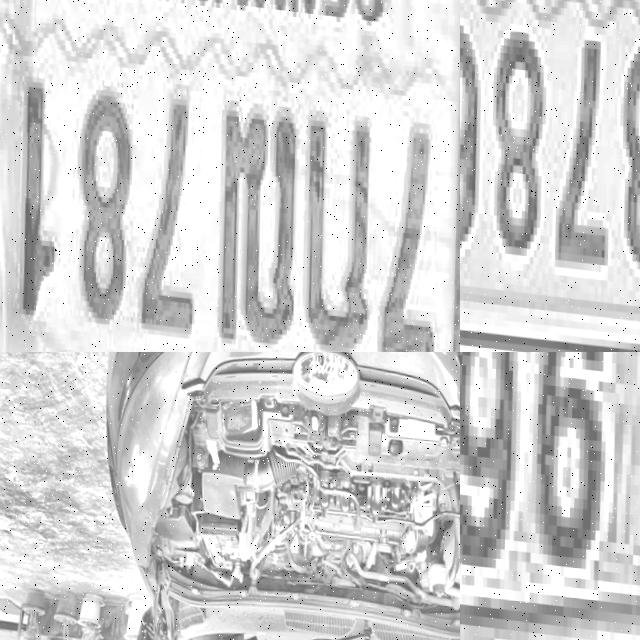license-plate: (0, 0, 460, 352), (460, 0, 640, 352), (460, 352, 640, 640)
